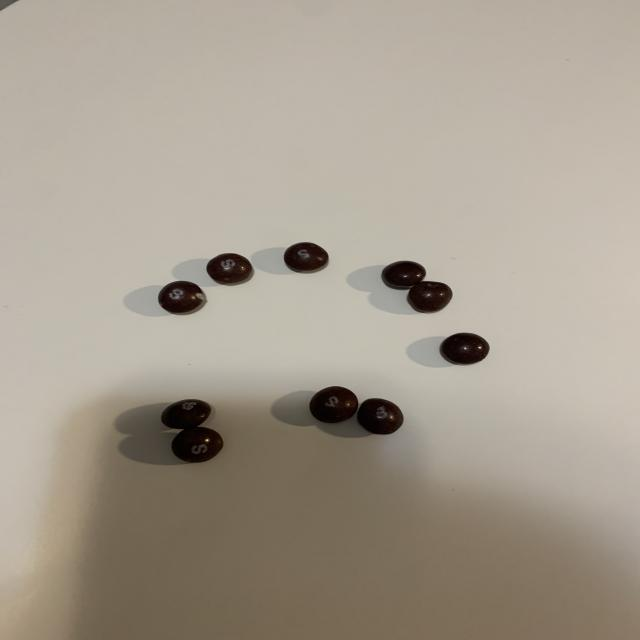smartie: (171, 427, 223, 463), (310, 387, 358, 423), (357, 399, 403, 435), (440, 333, 490, 365), (157, 281, 204, 314), (160, 399, 210, 429), (407, 281, 453, 313), (206, 253, 252, 284), (283, 242, 328, 273), (381, 260, 426, 289)
